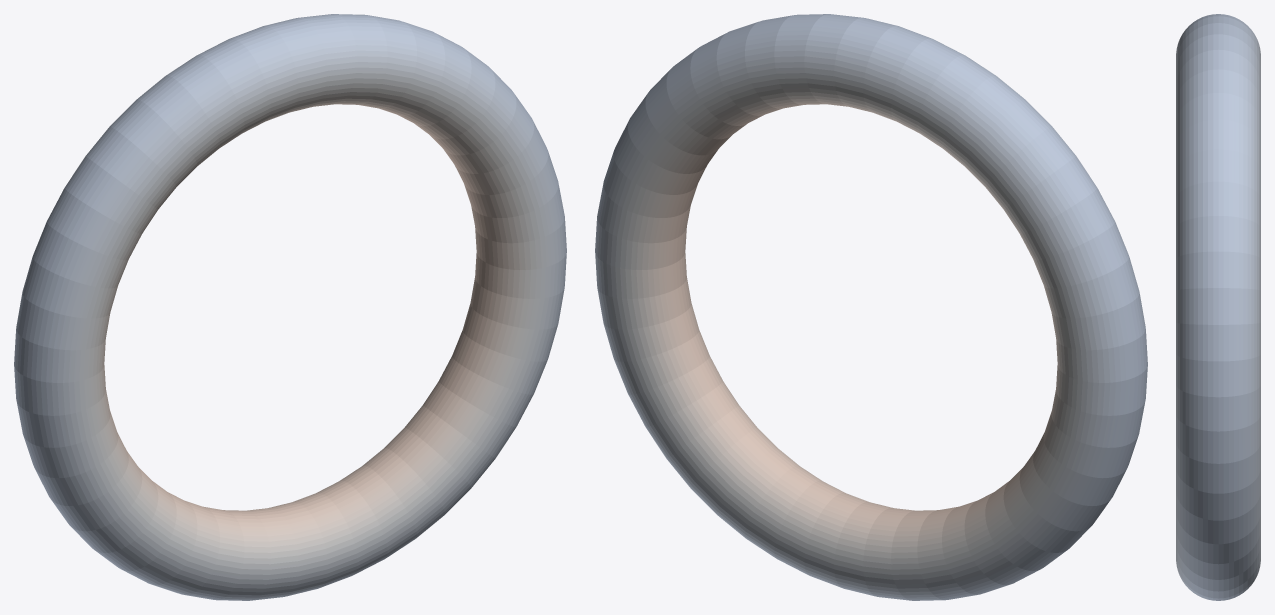
3 renders of one model, left to right at view 1: azimuth 30°, elevation 25°; view 2: azimuth 150°, elevation 25°; view 3: azimuth 270°, elevation 25°, orthographic. The views are drawn at different scales.
Visible parts, largest first — view 1: world; view 2: world; view 3: world.
Boxes of the visible parts, x1,y1,x2,y2 form: world: (14,14,566,600); world: (595,14,1147,600); world: (1176,14,1260,600).
Size of the model in its own units: 30.4 by 30.34 by 4.39.
